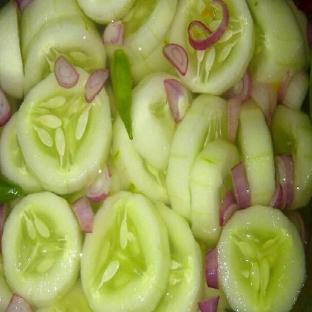Cucumber: (17, 69, 111, 194), (82, 192, 170, 311), (218, 206, 305, 311), (3, 192, 81, 306), (113, 73, 175, 202), (170, 0, 253, 95), (167, 95, 227, 220), (23, 16, 105, 93), (190, 140, 240, 246), (156, 203, 203, 311), (112, 117, 168, 202), (271, 106, 311, 208), (239, 100, 275, 205), (21, 0, 83, 54), (0, 114, 41, 192), (123, 0, 177, 58), (0, 1, 23, 98), (130, 35, 176, 83), (36, 281, 91, 311), (283, 71, 309, 110), (202, 286, 232, 311), (0, 255, 13, 311), (107, 153, 124, 195)
